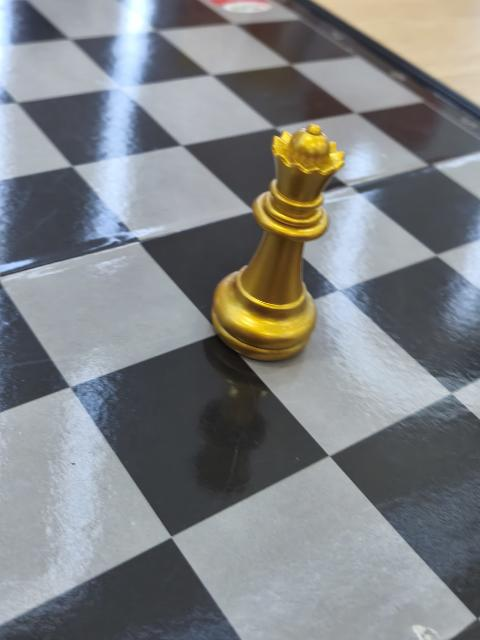black_queen: (213, 122, 348, 358)
